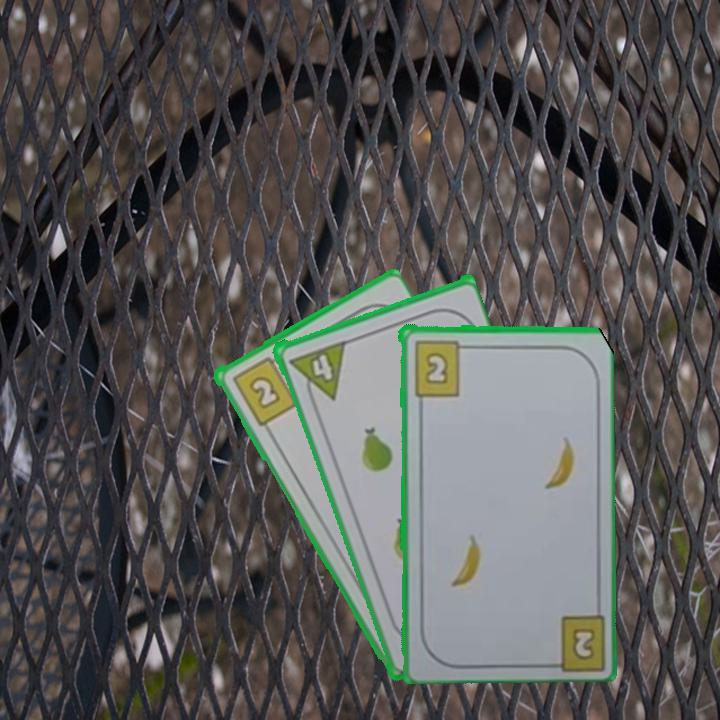2b: (228, 351, 299, 429), (410, 336, 471, 398), (571, 627, 594, 659)
4p: (284, 337, 348, 408)
